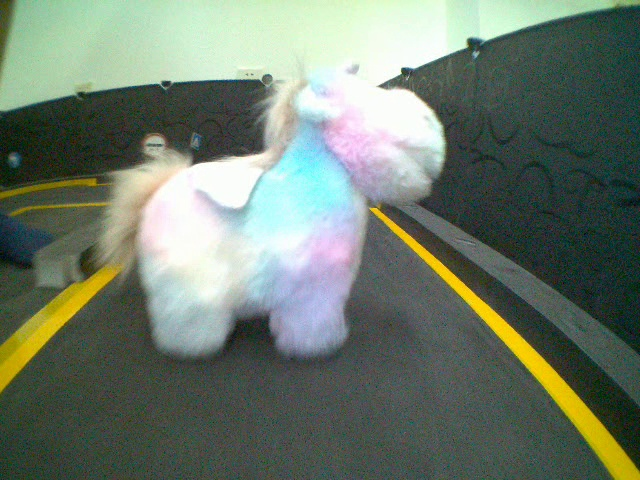unicorn: (88, 57, 451, 361)
